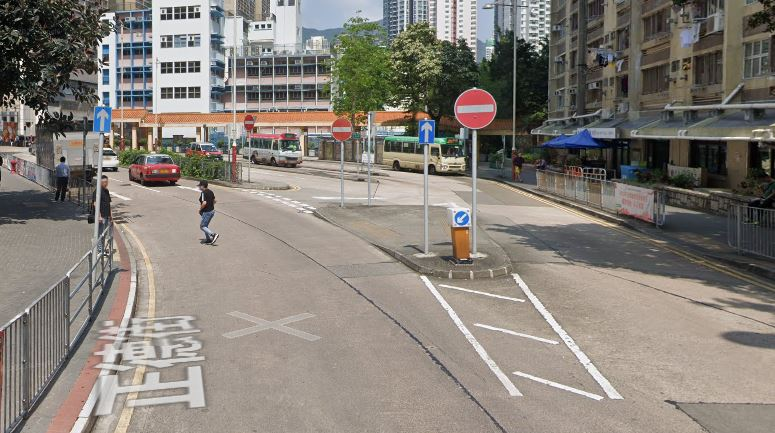No Enter: (454, 87, 498, 132), (330, 118, 355, 140), (244, 115, 256, 131)
One Way Traffic: (94, 107, 113, 134), (418, 121, 435, 144)
